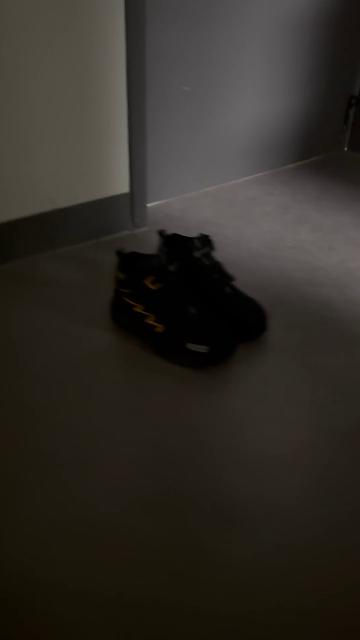shoe_worn: (109, 250, 234, 374), (154, 231, 274, 351)
